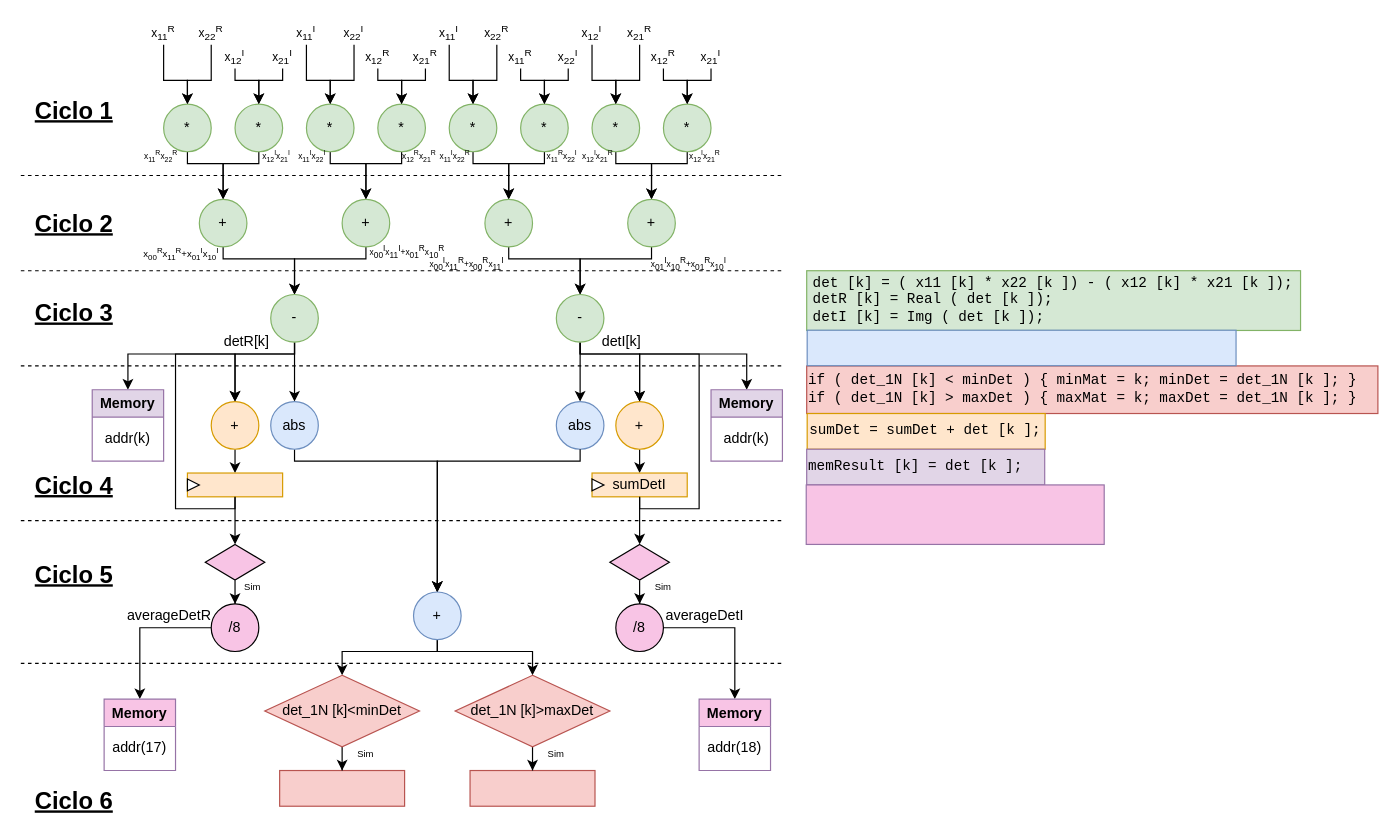
The diagram is 1399 pixels wide and 838 high, and some of its shapes have lost their labels. Here are the shapes that lost their labels. From the top down, the box of each, then its label:
(806, 329, 1236, 366): det_1N [k] = abs ( detR [k ]) + abs ( detI [k ]);
(186, 472, 283, 497): sumDetR
(805, 484, 1104, 544): averageDet = sumDet / N_Matrices ; memResult [k] = averageDet ;
(204, 543, 265, 580): k=7
(609, 543, 669, 580): k=8
(278, 769, 405, 806): minMat=k minDet=det_1N[k]
(469, 769, 595, 806): maxMat=k maxDet=det_1N[k]
